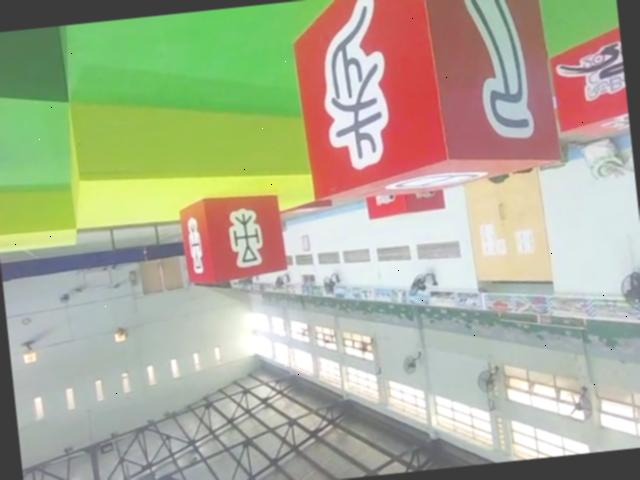R1: (547, 25, 631, 141)
R2 Fake: (285, 0, 565, 205)
R2 Real: (176, 190, 291, 289)
